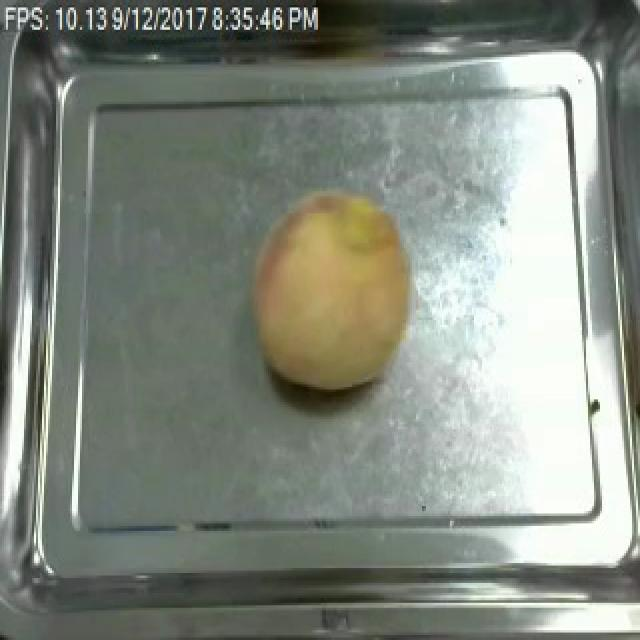Fruit: (240, 179, 424, 397)
